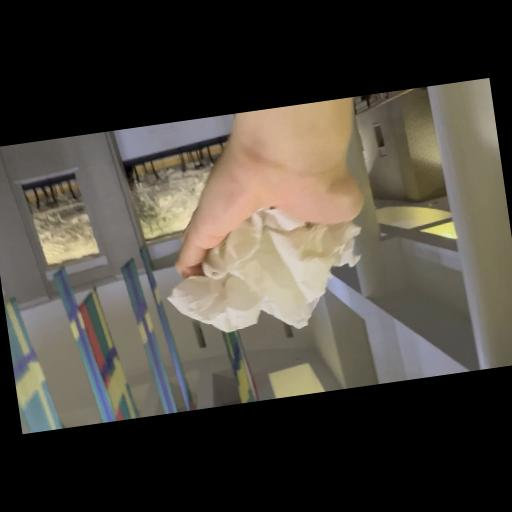napkin: (153, 176, 375, 348)
